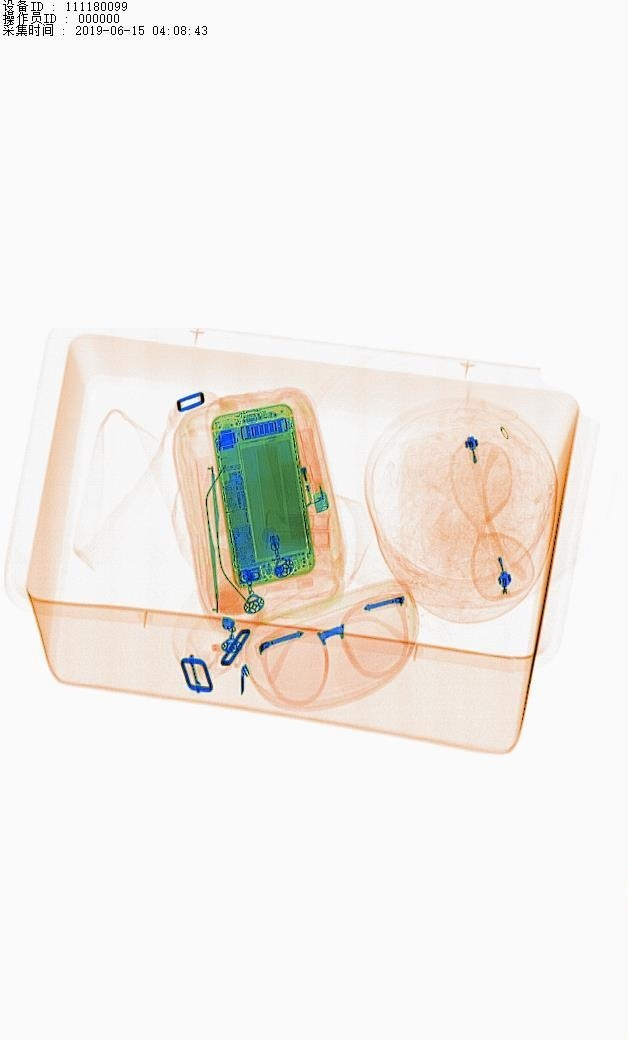NonmetallicFire: (280, 422, 350, 537)
